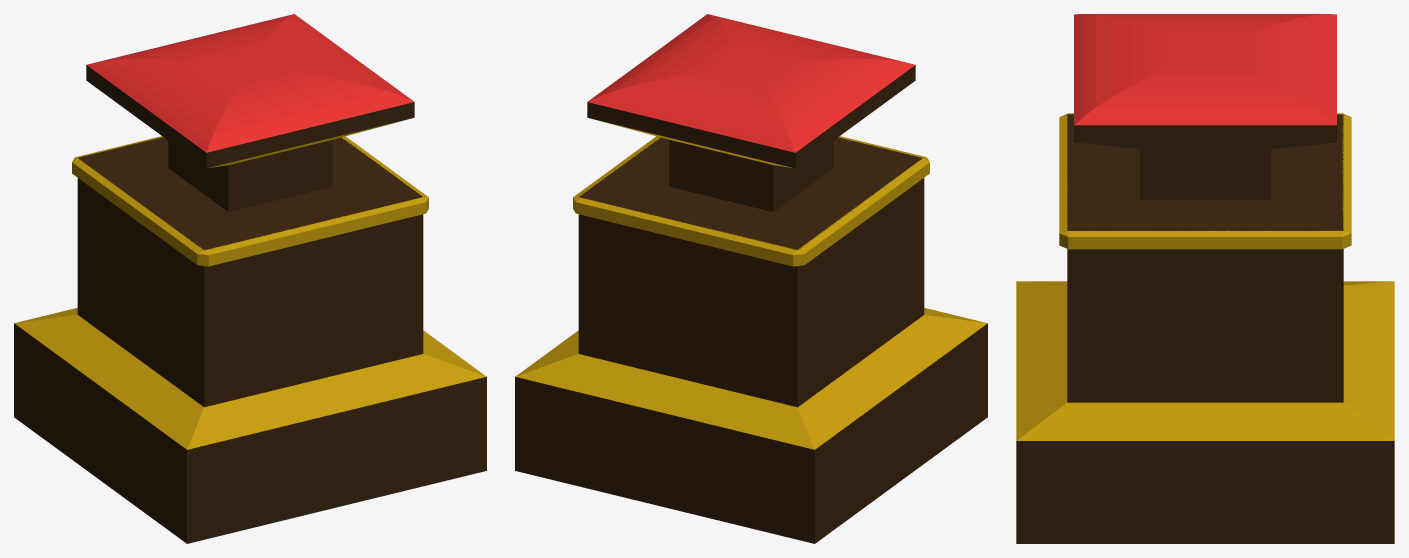
The model's file is Trophy Stand.fbx.
3 renders of one model, left to right at view 1: azimuth 30°, elevation 25°; view 2: azimuth 150°, elevation 25°; view 3: azimuth 270°, elevation 25°, orthographic. The views are drawn at different scales.
Parts seen in each view (by area): view 1: Cube; view 2: Cube; view 3: Cube.
Boxes of the visible parts, x1,y1,x2,y2 form: Cube: (14, 14, 486, 543); Cube: (515, 14, 987, 543); Cube: (1016, 14, 1394, 543).
Bounding box in the file's own units: 200 × 240 × 200.
